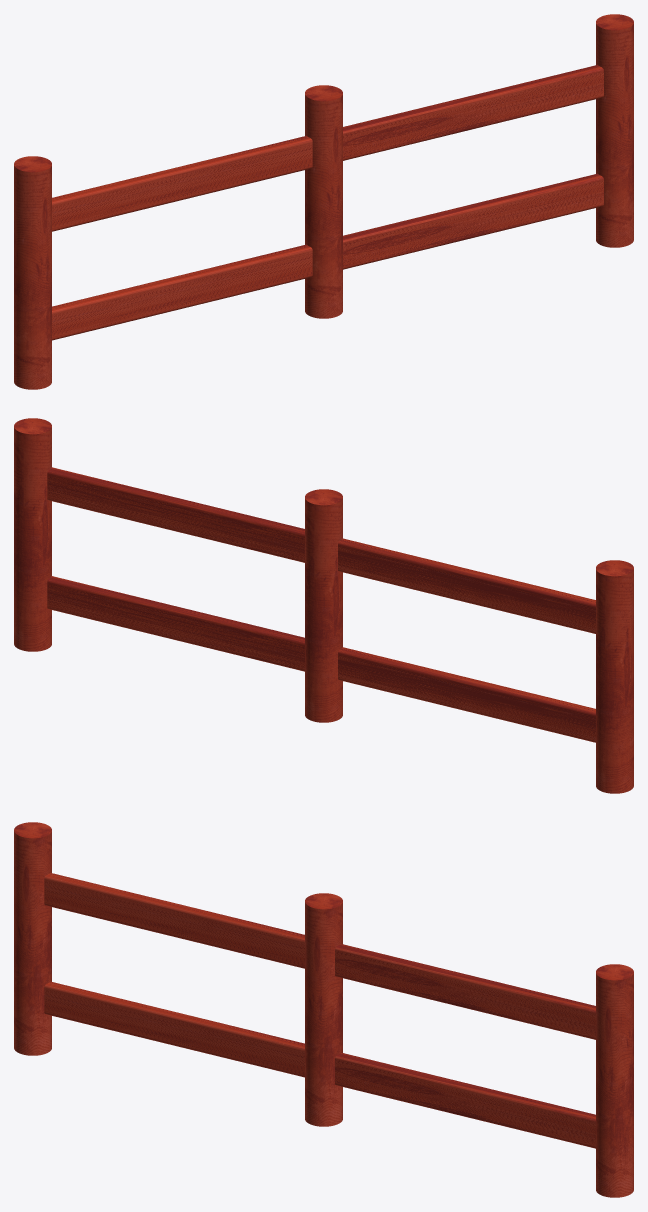
The model's file is fenceA.fbx.
3 renders of one model, top to bottom at view 1: azimuth 30°, elevation 25°; view 2: azimuth 150°, elevation 25°; view 3: azimuth 330°, elevation 25°, orthographic.
Visible parts, largest first — view 1: Cylinder.003; view 2: Cylinder.003; view 3: Cylinder.003.
Part boxes in pixels (x1,y1,x2,y2): Cylinder.003: [14, 14, 633, 389]; Cylinder.003: [14, 418, 633, 793]; Cylinder.003: [14, 822, 633, 1197].
Size of the model in its own units: 116 by 39.37 by 6.26.
Materials: 1 (1 with a texture image).
